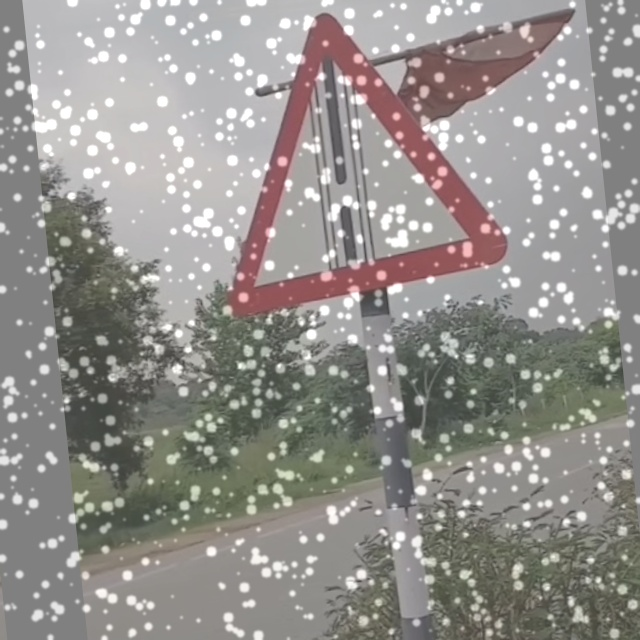Gap_in_Median: (205, 7, 509, 306)
